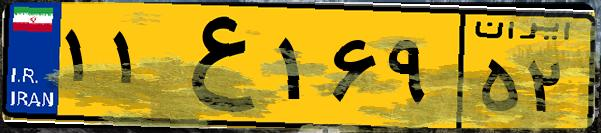1: (270, 28, 330, 110), (57, 26, 110, 100), (110, 28, 158, 98)
2: (525, 38, 570, 115)
5: (475, 38, 525, 113)
6: (330, 28, 385, 110)
9: (385, 28, 445, 110)
ع: (158, 12, 270, 120)
